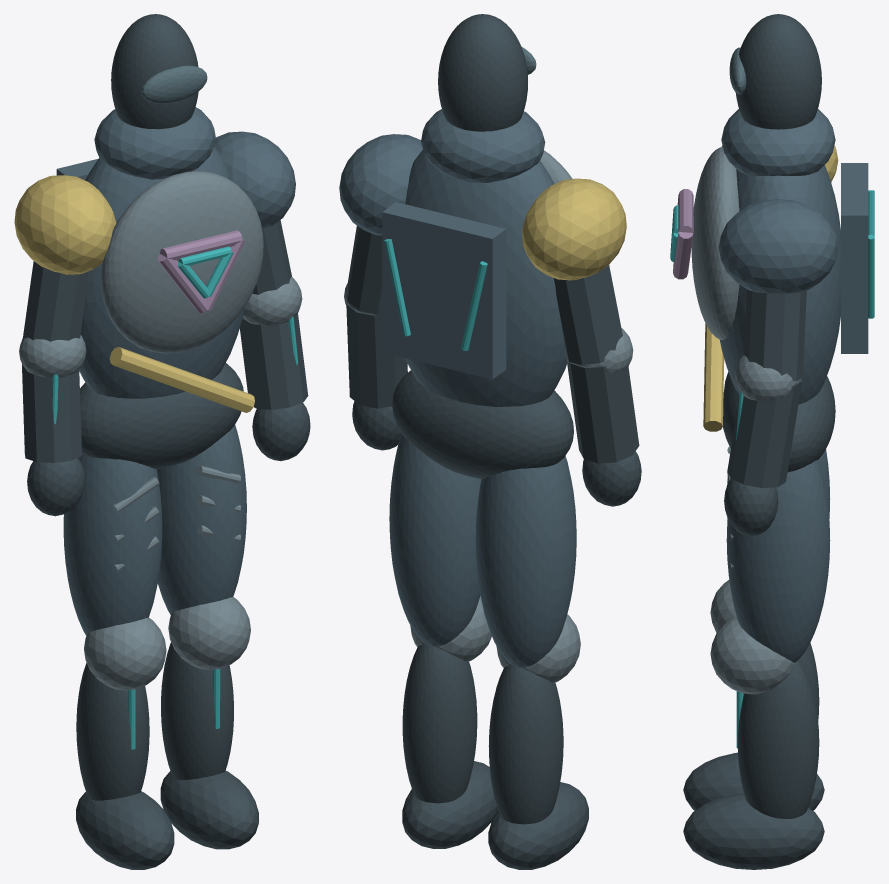
The model's file is ustur_prototype.glb.
3 renders of one model, left to right at view 1: azimuth 30°, elevation 25°; view 2: azimuth 150°, elevation 25°; view 3: azimuth 270°, elevation 25°, orthographic. The views are drawn at different scales.
Visible parts, largest first — view 1: chest, thigh_-1, thigh_1, hip, torso, arm_-1, shoulder_-1, shin_-1, shin_1, helmet, arm_1, collar (+13 smaller); view 2: back_plate, thigh_-1, torso, thigh_1, hip, arm_-1, shin_1, shin_-1, helmet, shoulder_-1, arm_1, collar (+10 smaller); view 3: thigh_1, arm_1, shin_1, shoulder_1, torso, helmet, foot_1, chest, collar, back_plate, knee_1, hip (+9 smaller).
Boxes of the visible parts, x1,y1,x2,y2 form: chest: [101, 171, 263, 353]; thigh_-1: [63, 454, 162, 635]; thigh_1: [157, 425, 246, 614]; hip: [80, 363, 243, 469]; torso: [79, 147, 245, 398]; arm_-1: [22, 261, 87, 462]; shoulder_-1: [14, 175, 116, 274]; shin_-1: [76, 663, 149, 800]; shin_1: [161, 642, 233, 779]; helmet: [111, 14, 198, 129]; arm_1: [240, 220, 308, 409]; collar: [94, 107, 215, 179]; back_plate: [382, 202, 506, 379]; thigh_-1: [475, 456, 576, 667]; torso: [405, 150, 566, 406]; thigh_1: [389, 433, 481, 646]; hip: [392, 370, 573, 478]; arm_-1: [553, 265, 639, 463]; shin_1: [402, 644, 477, 803]; shin_-1: [488, 665, 563, 824]; helmet: [438, 14, 527, 131]; shoulder_-1: [522, 178, 626, 280]; arm_1: [346, 226, 407, 408]; collar: [421, 109, 545, 182]; thigh_1: [726, 459, 830, 662]; arm_1: [727, 289, 806, 487]; shin_1: [738, 660, 819, 818]; shoulder_1: [718, 199, 838, 293]; torso: [720, 165, 840, 404]; helmet: [736, 14, 821, 129]; foot_1: [683, 793, 824, 869]; chest: [691, 147, 739, 339]; collar: [721, 109, 835, 176]; back_plate: [841, 163, 868, 353]; knee_1: [710, 617, 795, 694]; hip: [723, 376, 835, 472].
Size of the model in its own units: 0.59 by 1.68 by 0.376.
